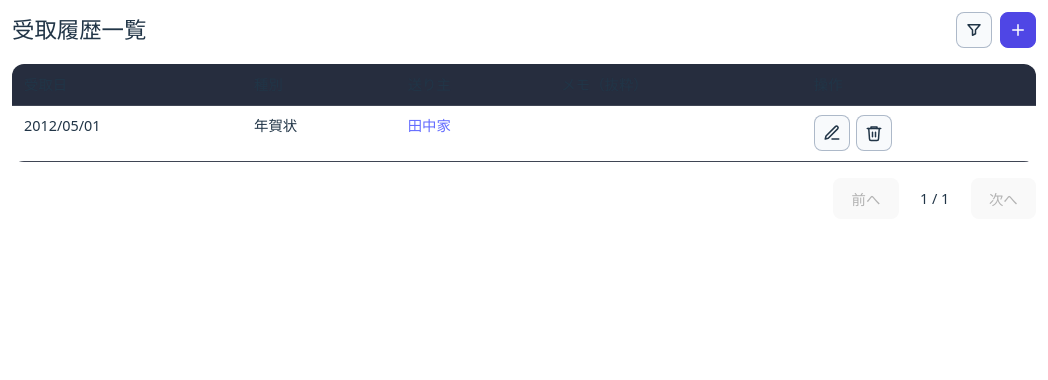
Test: PostcardReceiptListPage › clears selected year when the last receipt of that year is deleted
Click the button named "フィルタを開く" at (974, 30), box x1=956 y1=12 x2=992 y2=48
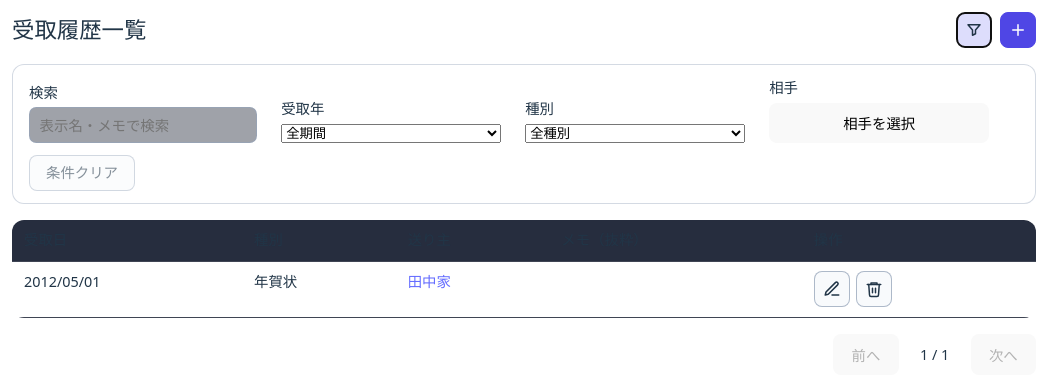
Select "2012" in the dropdown labelled "受取年" at (391, 133), box x1=281 y1=124 x2=501 y2=143
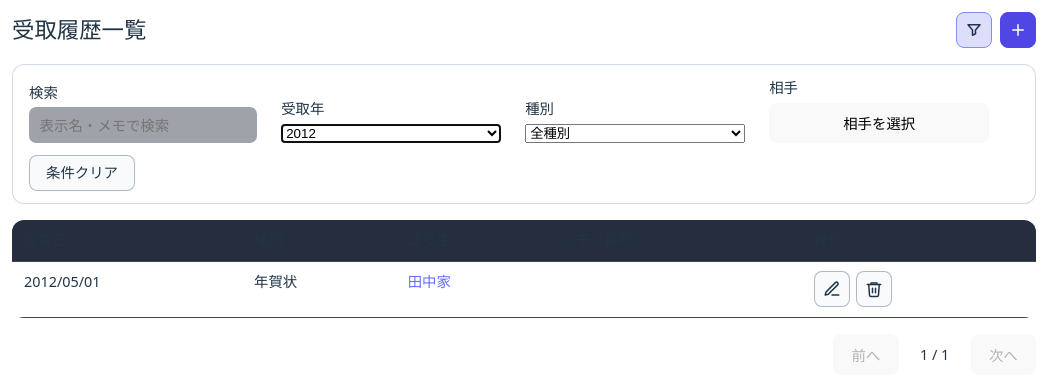
Expected: the link "田中家" is shown, x1=408 y1=272 x2=451 y2=291
Click the button named "削除" at (874, 289), box x1=856 y1=271 x2=892 y2=307
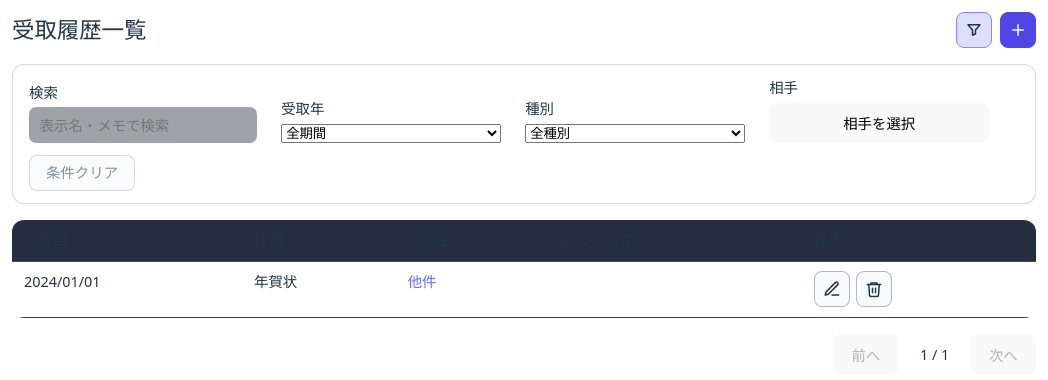
Result: the link "他件" is shown at x1=408 y1=272 x2=436 y2=291
